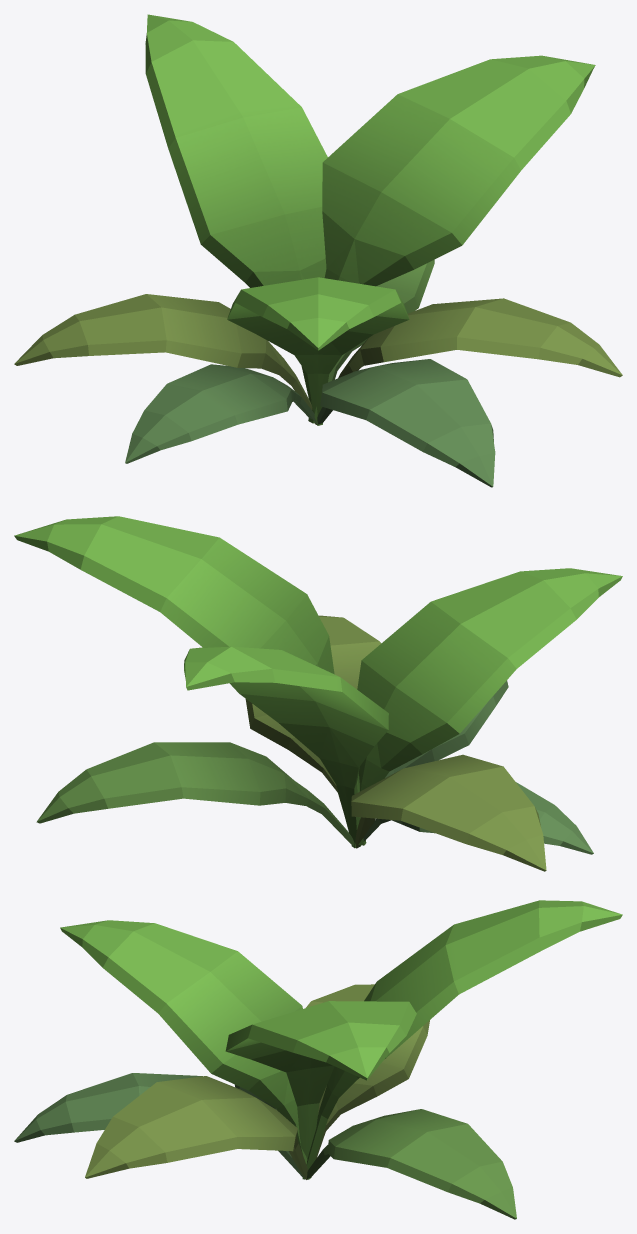
File: ShrubShort-02.FBX
3 views of the same model, one above another, from view 1: azimuth 30°, elevation 25°; view 2: azimuth 150°, elevation 25°; view 3: azimuth 270°, elevation 25° (orthographic). The views are drawn at different scales.
Parts seen in each view (by area): view 1: ShrubShort-02; view 2: ShrubShort-02; view 3: ShrubShort-02.
Part boxes in pixels (x1,y1,x2,y2): ShrubShort-02: [14, 14, 622, 487]; ShrubShort-02: [14, 516, 622, 871]; ShrubShort-02: [14, 900, 622, 1219].
Bounding box in the file's own units: 116 × 58.4 × 118.
1 material, 1 textured.
